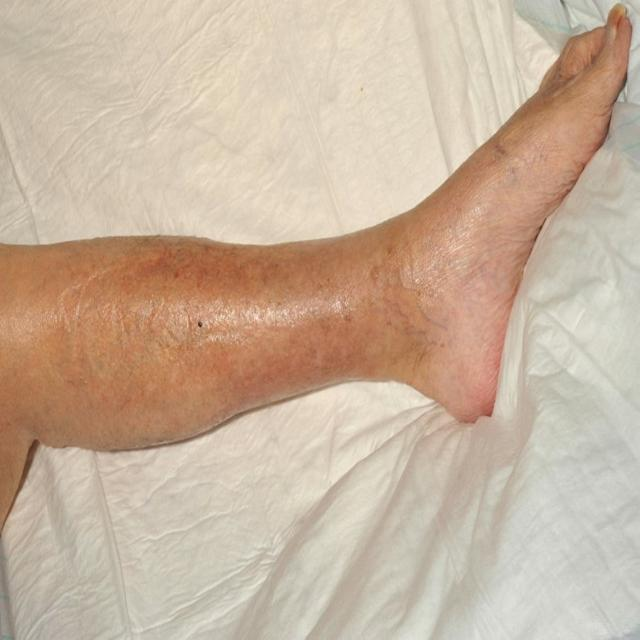wound: (116, 237, 282, 301)
